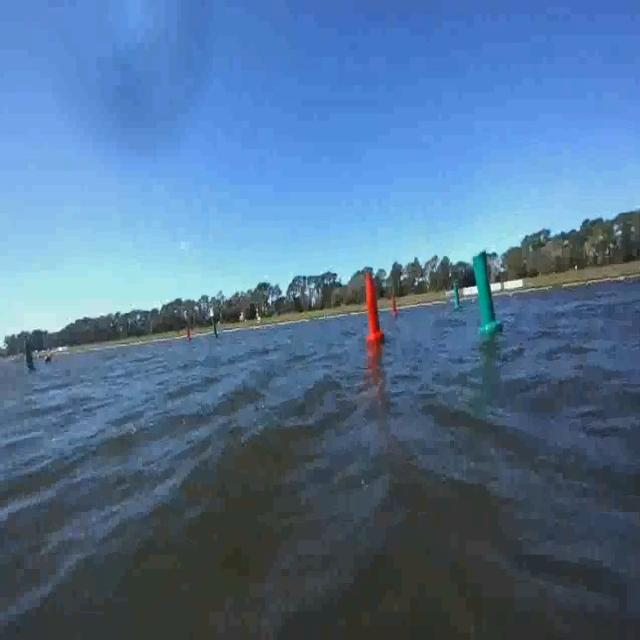green-column-buoy: (473, 251, 505, 336), (22, 333, 36, 376), (451, 281, 460, 311), (212, 320, 219, 340)
red-column-buoy: (364, 273, 386, 346), (388, 293, 396, 314), (186, 325, 192, 341)
